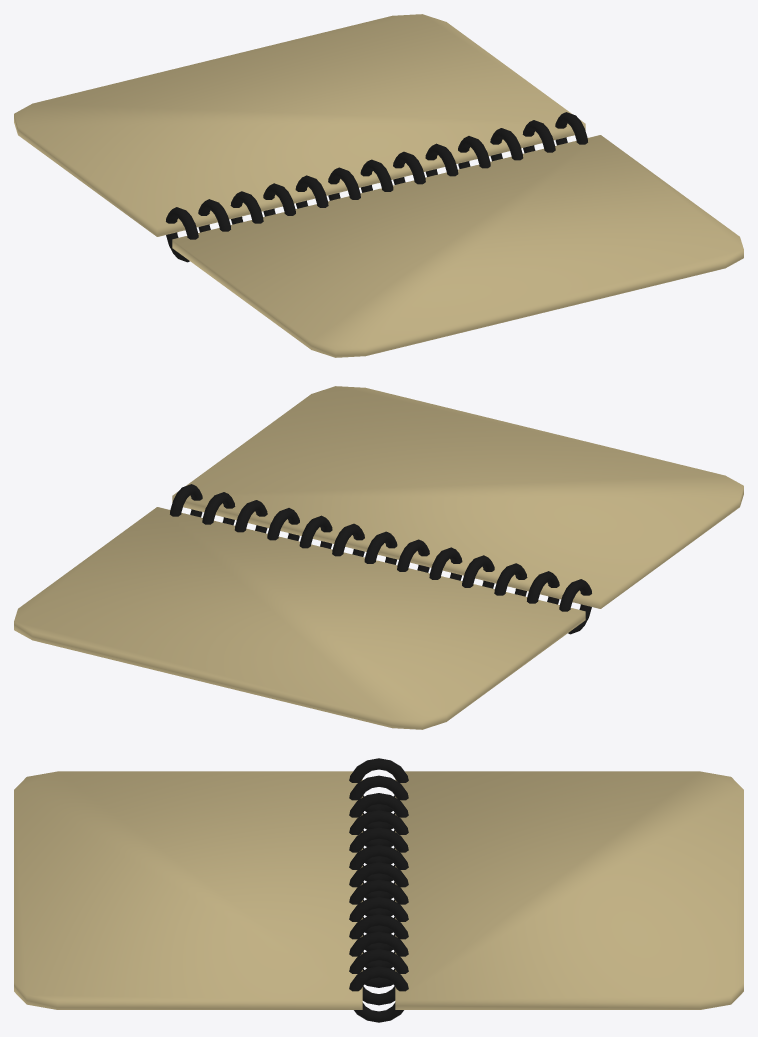
The model's file is item_book.glb.
3 views of the same model, one above another, from view 1: azimuth 30°, elevation 25°; view 2: azimuth 150°, elevation 25°; view 3: azimuth 270°, elevation 25° (orthographic). The views are drawn at different scales.
Parts seen in each view (by area): view 1: book; view 2: book; view 3: book.
Part boxes in pixels (bbox=[...]): book: bbox=[14, 14, 743, 357]; book: bbox=[14, 386, 743, 729]; book: bbox=[14, 758, 743, 1022].
Bounding box in the file's own units: 1 × 0.1147 × 1.35.
